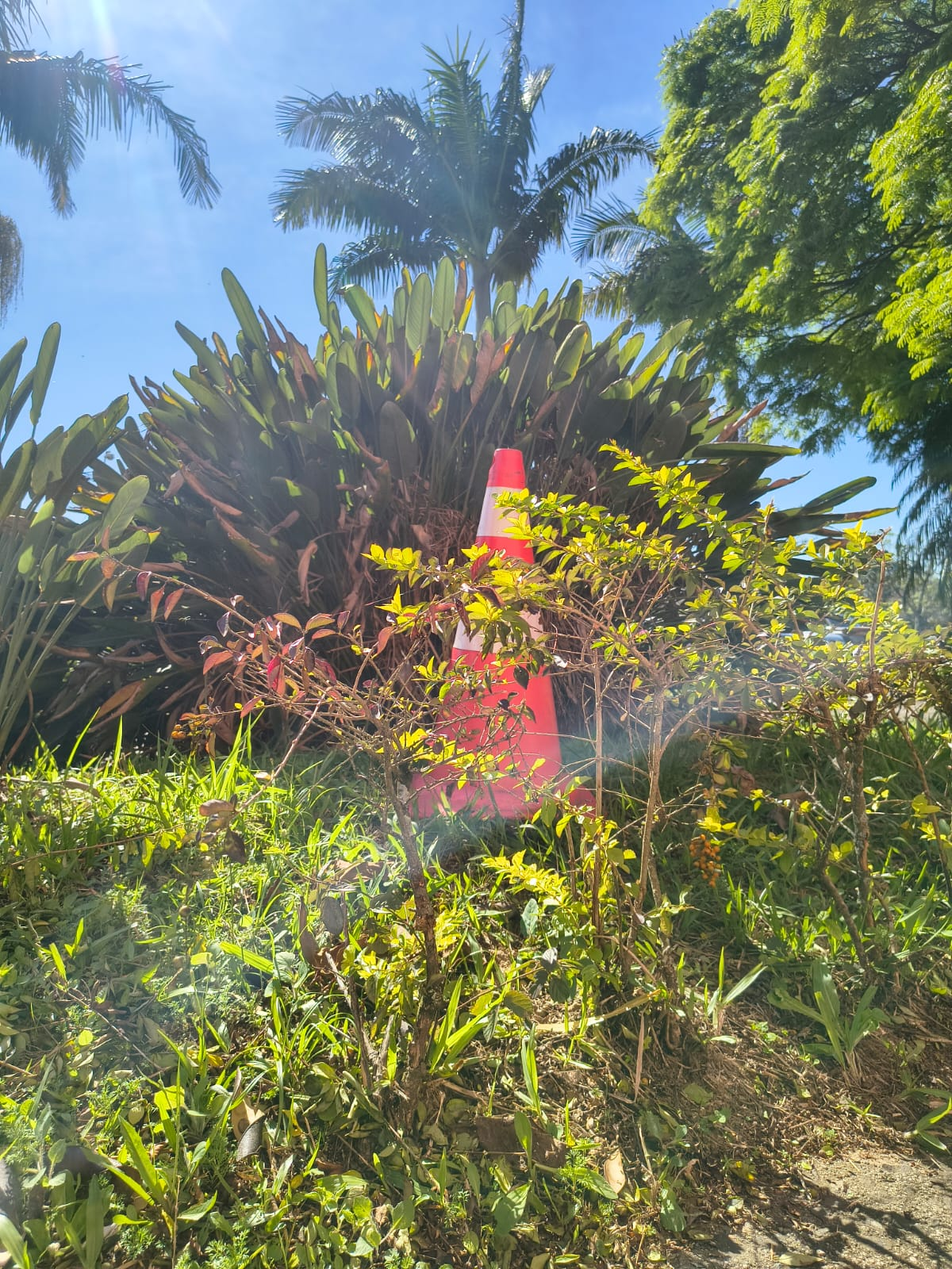cone: (407, 447, 618, 847)
